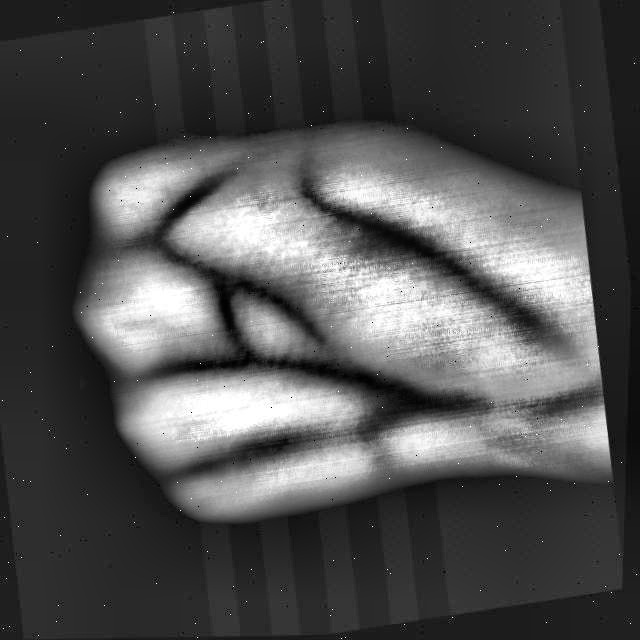Vein: (257, 351, 443, 413)
